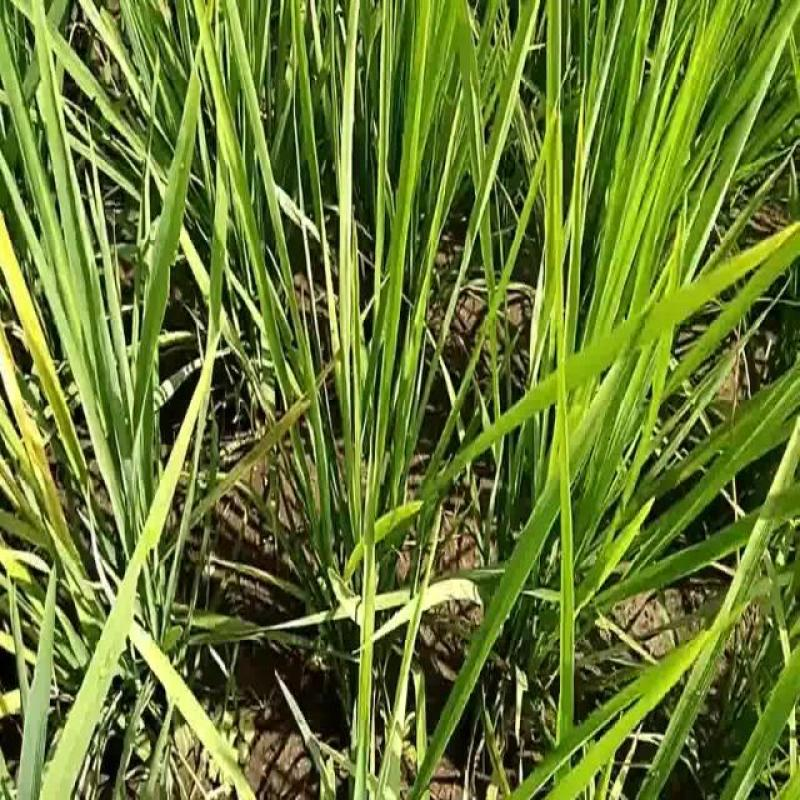Rice Tungro: (1, 215, 68, 433), (1, 326, 59, 499)
